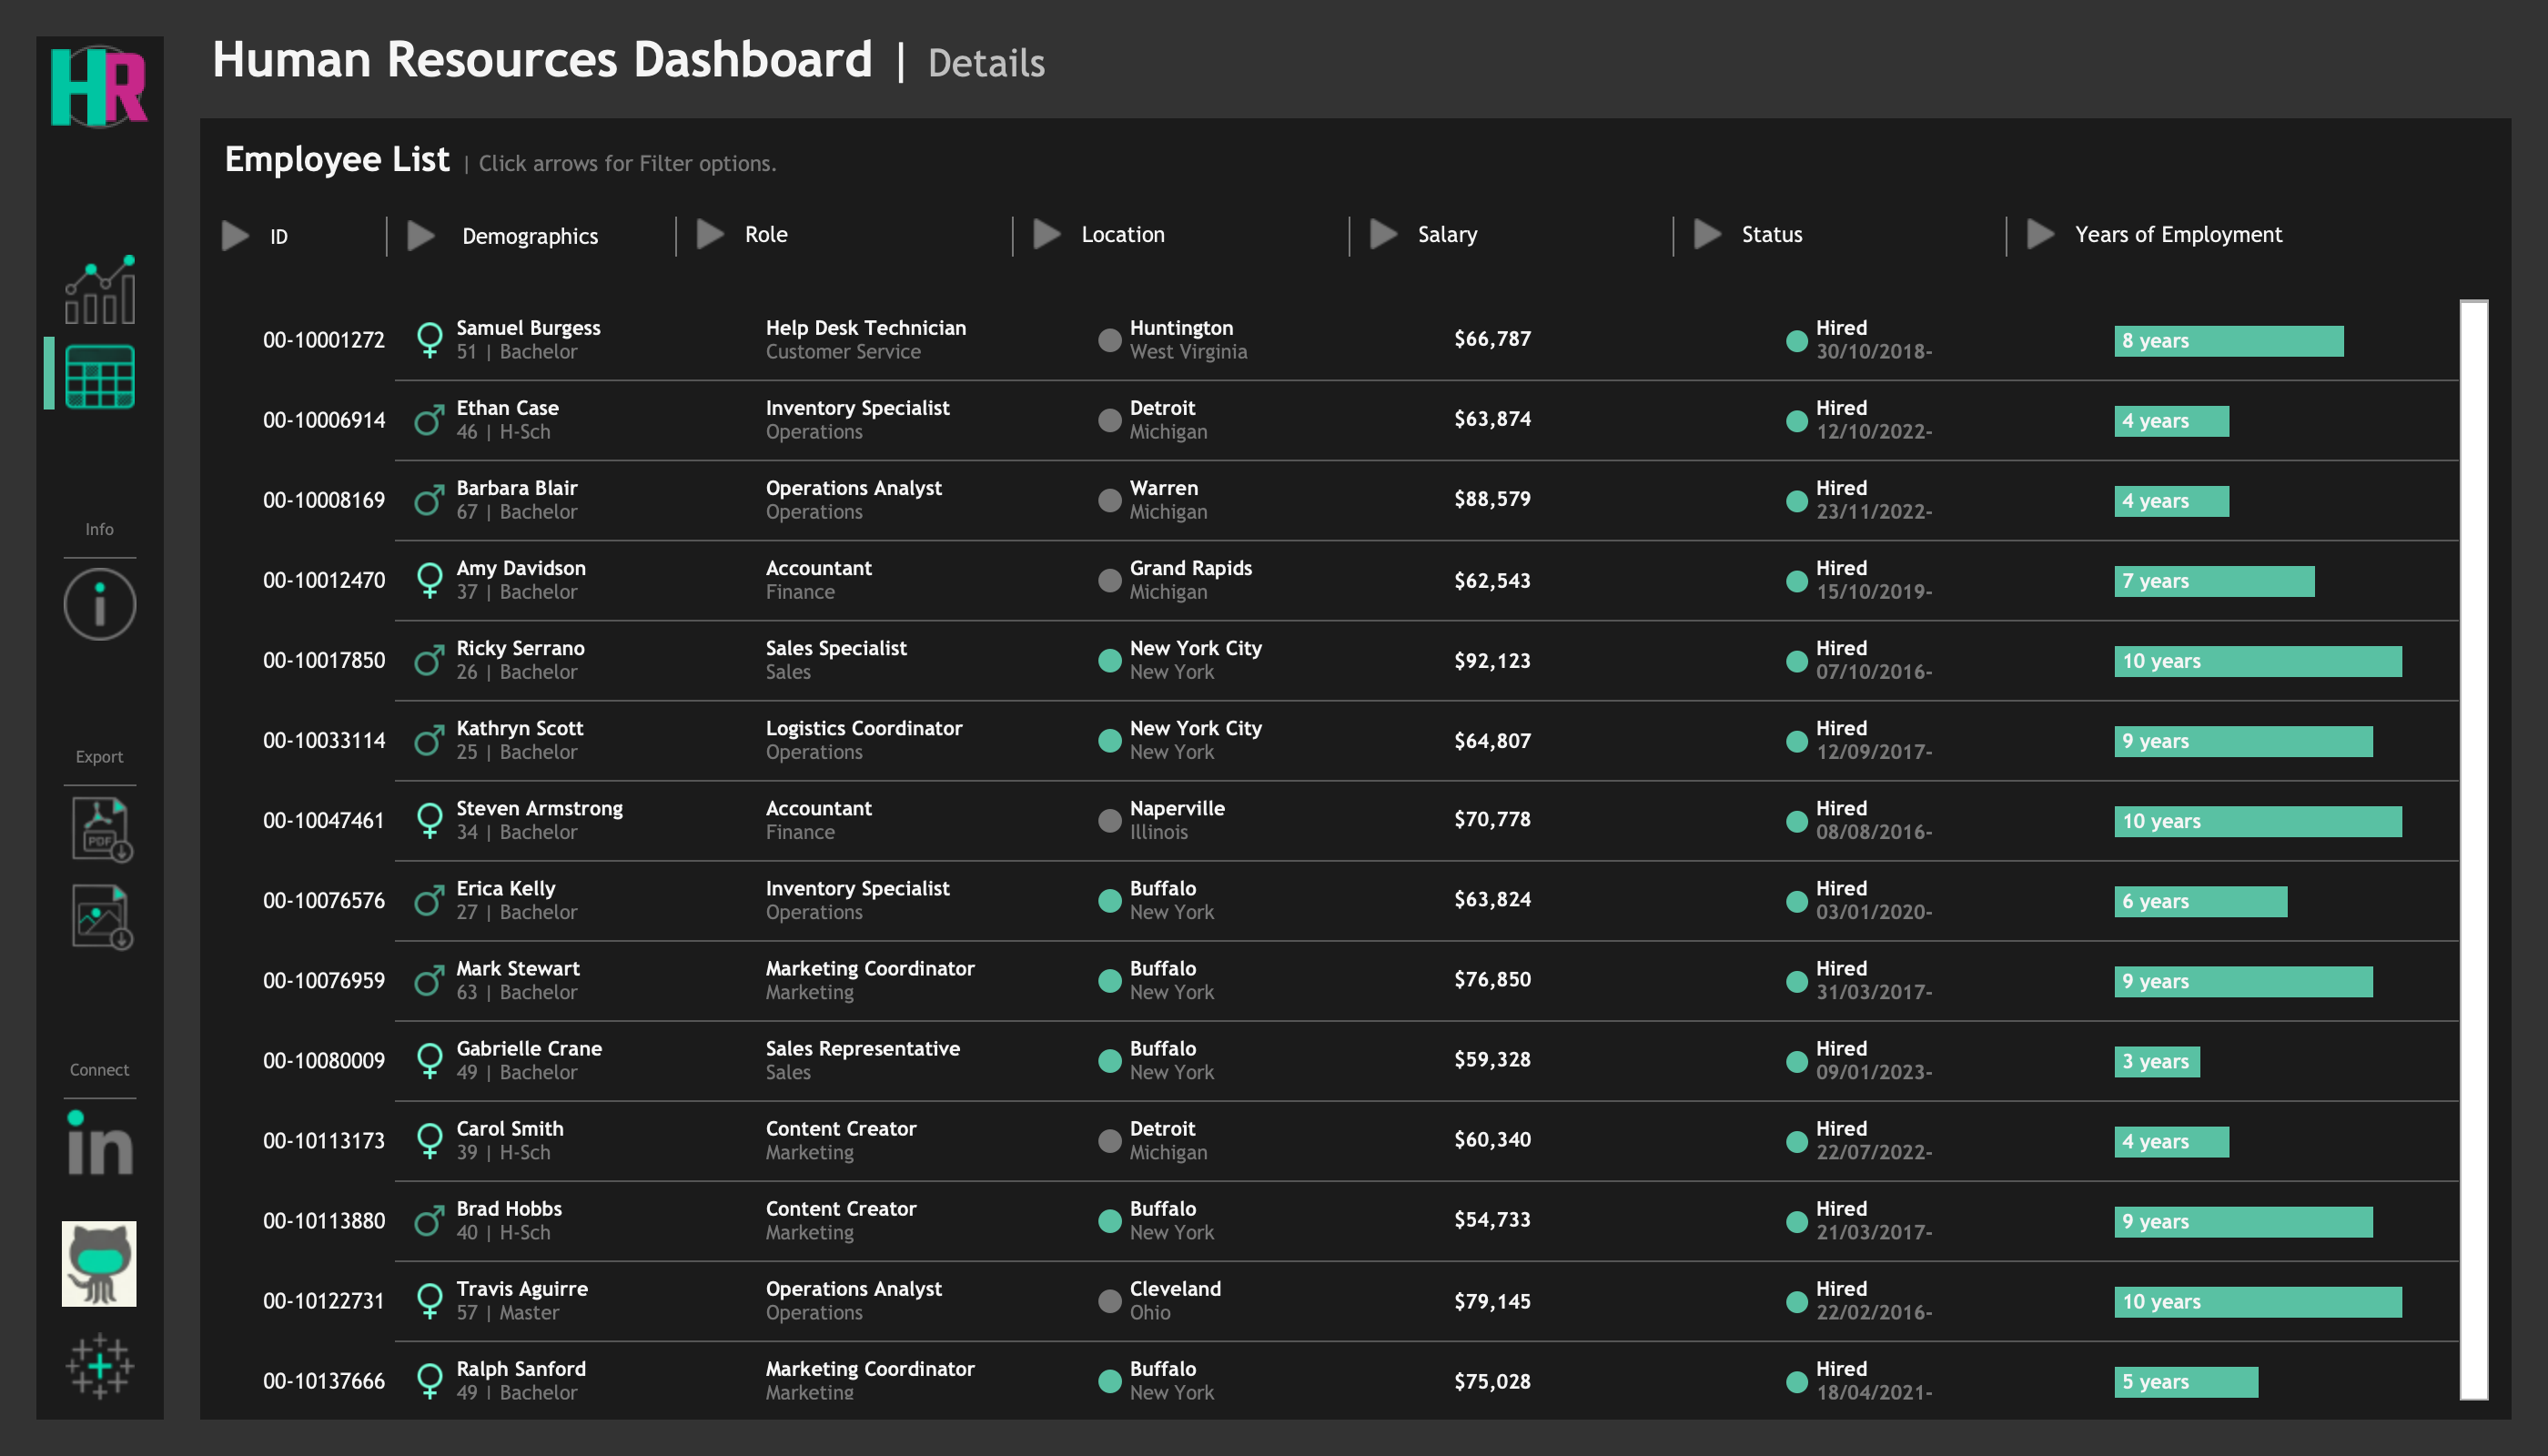

What the dashboard file says about the page in this screenshot:
{"tool":"tableau","page":{"name":"HR | Details","canvas":[1400,800],"ordinal":0},"visuals":[{"type":"text","box":[89,0,1312,533]},{"type":"text","box":[110,0,673,65]},{"type":"blank","box":[783,0,597,65]},{"type":"image","param":"Image/Logo.png","box":[20,20,70,55]},{"type":"text","box":[117,72,1256,37]},{"type":"blank","box":[30,85,50,54.8]},{"type":"dashboard-object","box":[117,109,25,42]},{"type":"text","box":[142,109,64,42]},{"type":"blank","box":[206,109,13,42]},{"type":"dashboard-object","box":[219,109,25,42]},{"type":"text","box":[244,109,121,42]},{"type":"blank","box":[365,109,13,42]},{"type":"dashboard-object","box":[378,109,25,40]},{"type":"text","box":[403,109,147,40]},{"type":"blank","box":[550,109,13,42]},{"type":"dashboard-object","box":[563,109,25,40]},{"type":"text","box":[588,109,147,40]},{"type":"blank","box":[735,109,13,42]},{"type":"dashboard-object","box":[748,109,25,40]},{"type":"text","box":[773,109,140,40]},{"type":"blank","box":[913,109,13,42]},{"type":"dashboard-object","box":[926,109,25,40]},{"type":"text","box":[951,109,145,40]},{"type":"blank","box":[1096,109,13,42]},{"type":"dashboard-object","box":[1109,109,25,40]},{"type":"text","box":[1134,109,239,40]},{"type":"dashboard-object","box":[30,139.8,50,38]},{"type":"filter","title":"Detailed","param":"[federated.0d477l70sej0ka1g44ftb0snqjpt].[none:Job Title:nk]","box":[378,149,172,48]},{"type":"filter","title":"Detailed","param":"[federated.0d477l70sej0ka1g44ftb0snqjpt].[none:Calculation_1904285567377417:nk]","box":[563,149,172,48]},{"type":"filter","title":"Detailed","param":"[federated.0d477l70sej0ka1g44ftb0snqjpt].[sum:Salary:qk]","box":[748,149,165,65]},{"type":"filter","title":"Detailed","param":"[federated.0d477l70sej0ka1g44ftb0snqjpt].[none:Calculation_1904285849620494:nk]","box":[926,149,170,48]},{"type":"filter","title":"Detailed","param":"[federated.0d477l70sej0ka1g44ftb0snqjpt].[sum:Calculation_1904286203605021:qk]","box":[1109,149,264,65]},{"type":"filter","title":"Detailed","param":"[federated.0d477l70sej0ka1g44ftb0snqjpt].[none:Employee_ID:nk]","box":[117,151,89,49]},{"type":"filter","title":"Detailed","param":"[federated.0d477l70sej0ka1g44ftb0snqjpt].[none:Calculation_1904286196981788:nk]","box":[219,151,146,48]},{"type":"worksheet","title":"Detailed","mark":"Shape","rows":["Employee_ID"],"cols":["Calculation_1904286196506651","Calculation_1904286196506651","Calculation_1904286196506651","Calculation_1904286196506651","Calculation_1904286196506651","Calculation_1904286203605021"],"box":[117,161,1256,612]},{"type":"blank","box":[30,177.8,50,10]},{"type":"blank","box":[24,185,6,40]},{"type":"dashboard-object","box":[30,187.8,50,38]},{"type":"filter","title":"Detailed","param":"[federated.0d477l70sej0ka1g44ftb0snqjpt].[none:Department:nk]","box":[378,197,172,48]},{"type":"filter","title":"Detailed","param":"[federated.0d477l70sej0ka1g44ftb0snqjpt].[none:State:nk]","box":[563,197,172,48]},{"type":"filter","title":"Detailed","param":"[federated.0d477l70sej0ka1g44ftb0snqjpt].[yr:Hiredate:ok]","box":[926,197,170,48]},{"type":"filter","title":"Detailed","param":"[federated.0d477l70sej0ka1g44ftb0snqjpt].[none:Gender:nk]","box":[219,199,146,48]},{"type":"blank","box":[30,225.8,50,54.8]},{"type":"filter","title":"Detailed","param":"[federated.0d477l70sej0ka1g44ftb0snqjpt].[none:City:nk]","box":[563,245,172,48]},{"type":"filter","title":"Detailed","param":"[federated.0d477l70sej0ka1g44ftb0snqjpt].[yr:Termdate:ok]","box":[926,245,170,48]},{"type":"filter","title":"Detailed","param":"[federated.0d477l70sej0ka1g44ftb0snqjpt].[none:Calculation_1904285577420813:nk]","box":[219,247,146,48]},{"type":"text","box":[30,280.6,50,20]},{"type":"filter","title":"Detailed","param":"[federated.0d477l70sej0ka1g44ftb0snqjpt].[none:Education Level:nk]","box":[219,295,146,48]},{"type":"blank","box":[30,300.6,50,11]},{"type":"dashboard-object","box":[30,311.6,50,40]},{"type":"blank","box":[30,351.6,50,54.8]},{"type":"text","box":[30,406.4,50,20]},{"type":"blank","box":[30,426.4,50,11]},{"type":"dashboard-object","box":[30,437.4,50,38]},{"type":"blank","box":[30,475.4,50,10]},{"type":"dashboard-object","box":[30,485.4,50,38]},{"type":"blank","box":[30,523.4,50,54.8]},{"type":"text","box":[30,578.2,50,20]},{"type":"blank","box":[30,598.2,50,11]},{"type":"image","param":"Image/contact-linkedin.png","box":[30,609.2,50,38]},{"type":"blank","box":[30,647.2,50,20]},{"type":"image","param":"Image/Screenshot 2026-05-12 at 10.55.49.png","box":[30,667.2,50,54.8]},{"type":"blank","box":[30,722,50,10]},{"type":"image","param":"Image/contact-public.png","box":[30,732,50,38]}]}

Visuals, with their boxes on the page's 1400x800 design canvas (x1, y1, x2, y2). These are canvas units, not pixel positions in the 2548x1456 screenshot, which may show the page scaled, cropped or inside an application window:
text: l=89, t=0, r=1401, b=533
text: l=110, t=0, r=783, b=65
blank: l=783, t=0, r=1380, b=65
image: l=20, t=20, r=90, b=75
text: l=117, t=72, r=1373, b=109
blank: l=30, t=85, r=80, b=140
dashboard-object: l=117, t=109, r=142, b=151
text: l=142, t=109, r=206, b=151
blank: l=206, t=109, r=219, b=151
dashboard-object: l=219, t=109, r=244, b=151
text: l=244, t=109, r=365, b=151
blank: l=365, t=109, r=378, b=151
dashboard-object: l=378, t=109, r=403, b=149
text: l=403, t=109, r=550, b=149
blank: l=550, t=109, r=563, b=151
dashboard-object: l=563, t=109, r=588, b=149
text: l=588, t=109, r=735, b=149
blank: l=735, t=109, r=748, b=151
dashboard-object: l=748, t=109, r=773, b=149
text: l=773, t=109, r=913, b=149
blank: l=913, t=109, r=926, b=151
dashboard-object: l=926, t=109, r=951, b=149
text: l=951, t=109, r=1096, b=149
blank: l=1096, t=109, r=1109, b=151
dashboard-object: l=1109, t=109, r=1134, b=149
text: l=1134, t=109, r=1373, b=149
dashboard-object: l=30, t=140, r=80, b=178
"Detailed" filter: l=378, t=149, r=550, b=197
"Detailed" filter: l=563, t=149, r=735, b=197
"Detailed" filter: l=748, t=149, r=913, b=214
"Detailed" filter: l=926, t=149, r=1096, b=197
"Detailed" filter: l=1109, t=149, r=1373, b=214
"Detailed" filter: l=117, t=151, r=206, b=200
"Detailed" filter: l=219, t=151, r=365, b=199
"Detailed" worksheet (Shape marks): l=117, t=161, r=1373, b=773
blank: l=30, t=178, r=80, b=188
blank: l=24, t=185, r=30, b=225
dashboard-object: l=30, t=188, r=80, b=226
"Detailed" filter: l=378, t=197, r=550, b=245
"Detailed" filter: l=563, t=197, r=735, b=245
"Detailed" filter: l=926, t=197, r=1096, b=245
"Detailed" filter: l=219, t=199, r=365, b=247
blank: l=30, t=226, r=80, b=281
"Detailed" filter: l=563, t=245, r=735, b=293
"Detailed" filter: l=926, t=245, r=1096, b=293
"Detailed" filter: l=219, t=247, r=365, b=295
text: l=30, t=281, r=80, b=301
"Detailed" filter: l=219, t=295, r=365, b=343
blank: l=30, t=301, r=80, b=312
dashboard-object: l=30, t=312, r=80, b=352
blank: l=30, t=352, r=80, b=406
text: l=30, t=406, r=80, b=426
blank: l=30, t=426, r=80, b=437
dashboard-object: l=30, t=437, r=80, b=475
blank: l=30, t=475, r=80, b=485
dashboard-object: l=30, t=485, r=80, b=523
blank: l=30, t=523, r=80, b=578
text: l=30, t=578, r=80, b=598
blank: l=30, t=598, r=80, b=609
image: l=30, t=609, r=80, b=647
blank: l=30, t=647, r=80, b=667
image: l=30, t=667, r=80, b=722
blank: l=30, t=722, r=80, b=732
image: l=30, t=732, r=80, b=770
